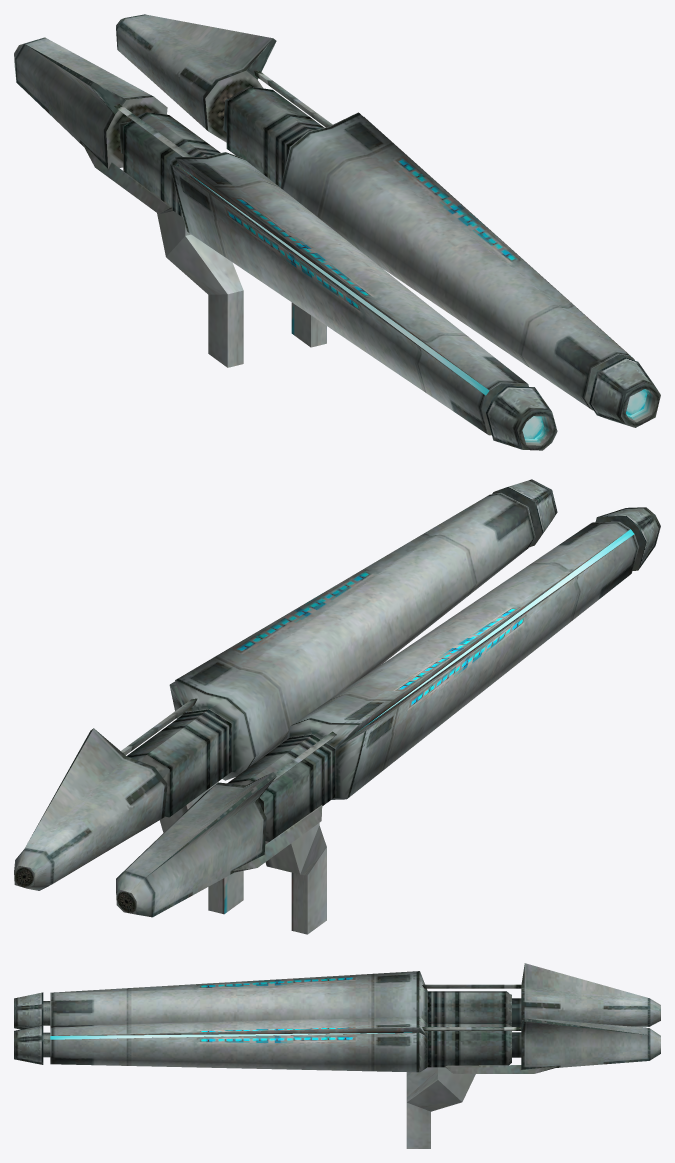
Rendered from ywing_weapon2_s02_l1.fbx.
3 views of the same model, one above another, from view 1: azimuth 30°, elevation 25°; view 2: azimuth 150°, elevation 25°; view 3: azimuth 270°, elevation 25° (orthographic). The views are drawn at different scales.
Visible parts, largest first — view 1: mesh_node; view 2: mesh_node; view 3: mesh_node.
Boxes of the visible parts, x1,y1,x2,y2 form: mesh_node: (14, 14, 660, 450); mesh_node: (14, 479, 660, 934); mesh_node: (14, 963, 660, 1148).
Bounding box in the file's own units: 0.5814 × 0.6482 × 2.66.
1 material, 1 textured.
